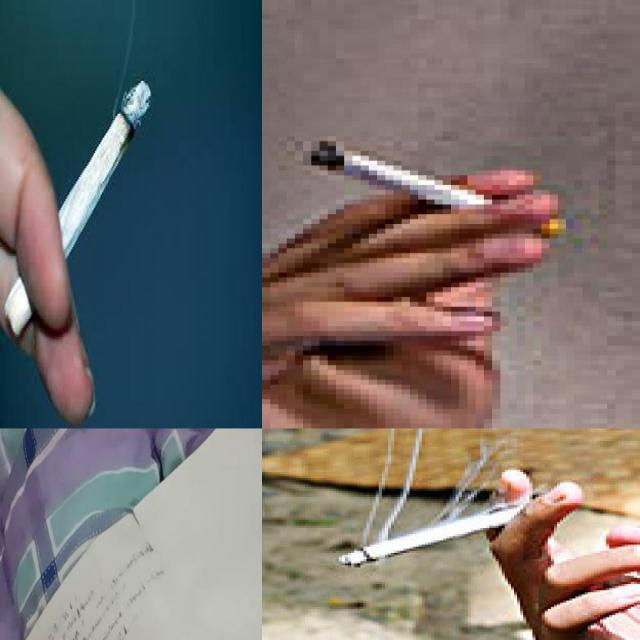smoke: (4, 78, 152, 339), (286, 131, 566, 229), (332, 506, 514, 568)
